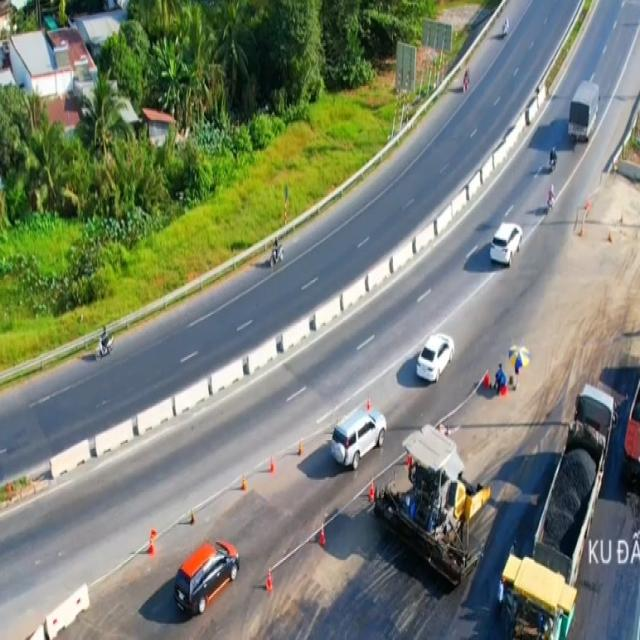car: (171, 531, 239, 617), (329, 402, 388, 468), (412, 331, 454, 385), (487, 218, 523, 270)
motorbike: (270, 235, 284, 269), (98, 327, 111, 361), (547, 145, 560, 176), (546, 179, 558, 211)
truck: (567, 80, 602, 146)
